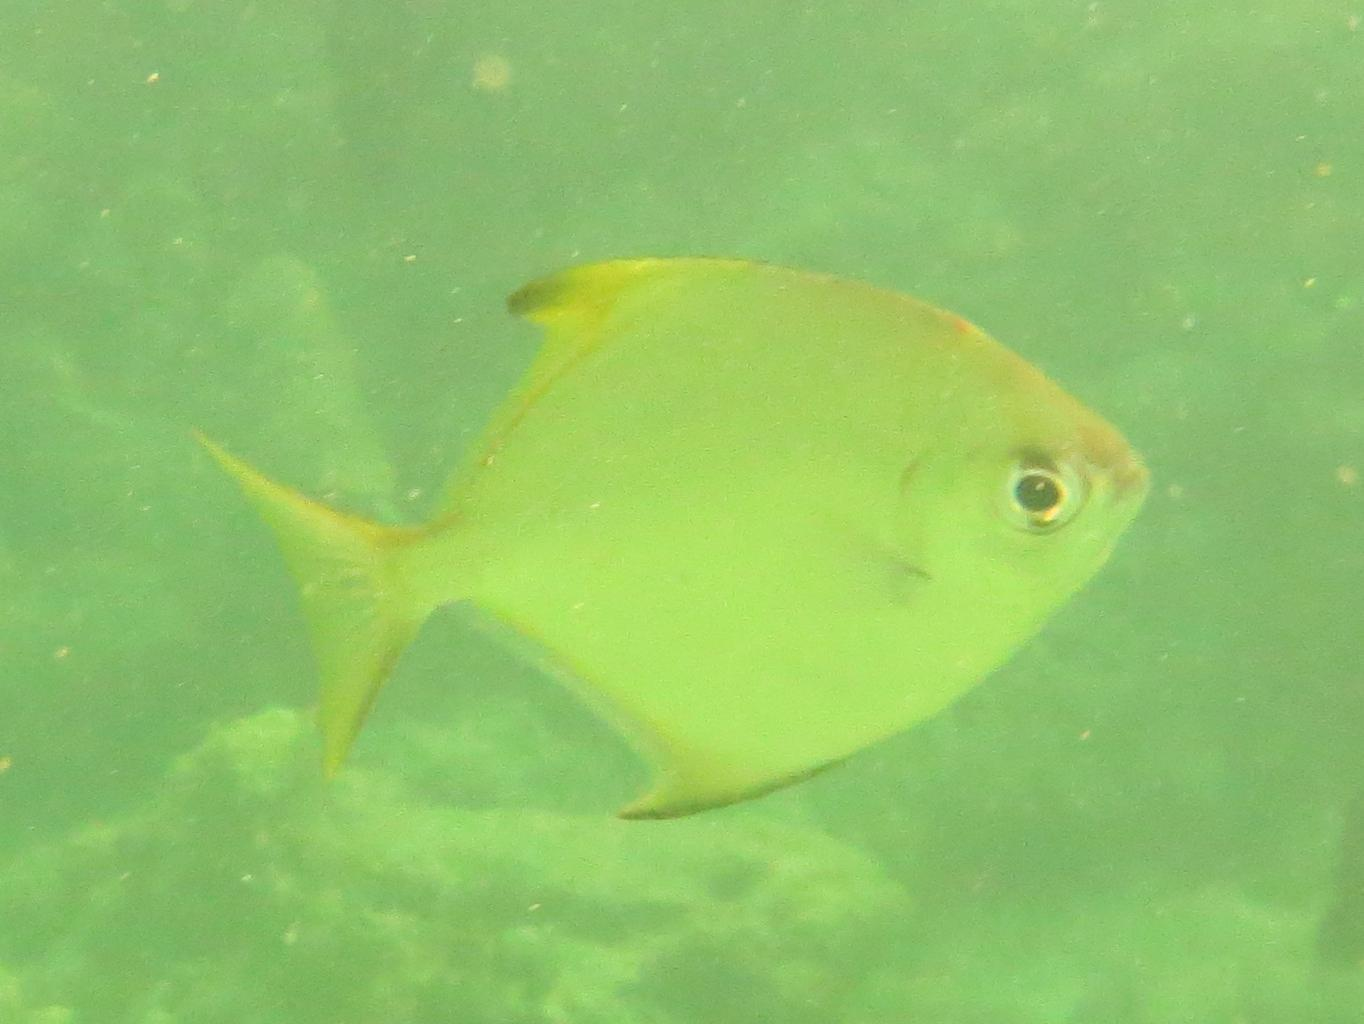Fish: (183, 246, 1167, 836)
